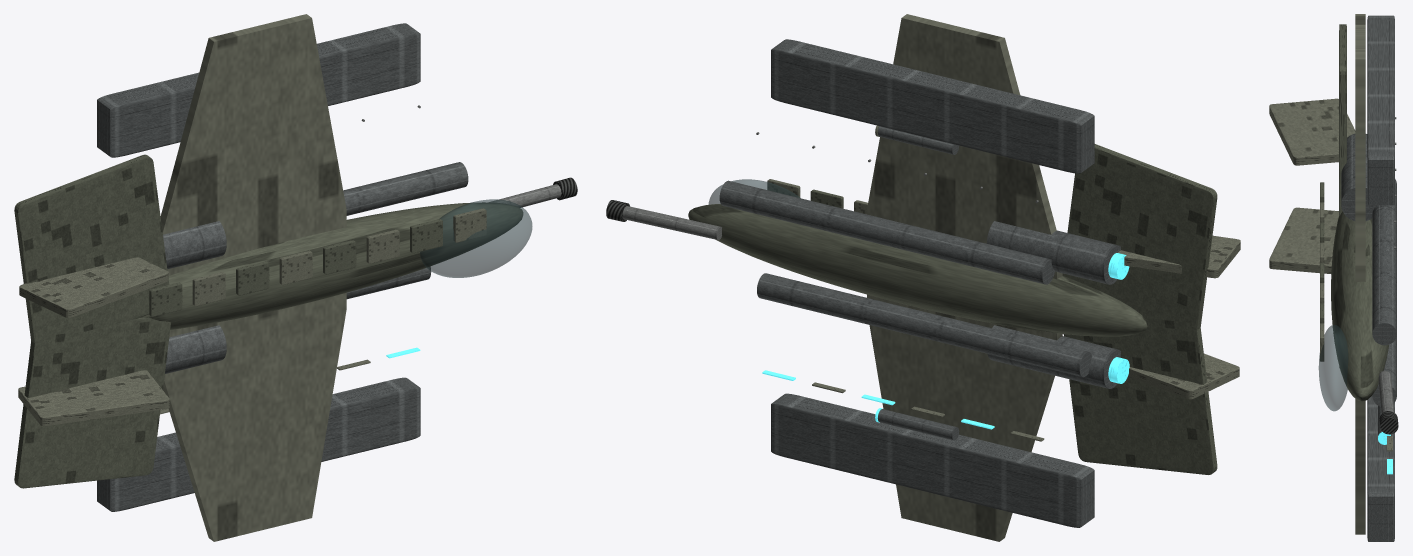
File: v-u30-vanguard-aerial-artillery-lod0.glb
3 renders of one model, left to right at view 1: azimuth 30°, elevation 25°; view 2: azimuth 150°, elevation 25°; view 3: azimuth 270°, elevation 25°, orthographic. The views are drawn at different scales.
Visible parts, largest first — view 1: combat_main_wing, combat_tailplane_-1, combat_tailplane_1, combat_fuselage, artillery_pod_1, artillery_pod_-1, combat_canopy, combat_fin_-1, combat_fin_1, aerial_launcher_5, combat_engine_1, combat_engine_0 (+11 smaller); view 2: combat_main_wing, combat_fuselage, artillery_pod_1, artillery_pod_-1, combat_tailplane_1, combat_tailplane_-1, aerial_launcher_1, combat_engine_1, aerial_launcher_0, aerial_launcher_5, aerial_launcher_4, aerial_launcher_2 (+7 smaller); view 3: combat_fuselage, artillery_pod_1, combat_main_wing, combat_fin_1, combat_fin_-1, artillery_pod_-1, combat_canopy, aerial_launcher_5, aerial_launcher_3, combat_engine_1, combat_tailplane_1, aerial_launcher_4 (+4 smaller).
Boxes of the visible parts, x1,y1,x2,y2 form: combat_main_wing: (160, 14, 346, 541); combat_tailplane_-1: (14, 317, 170, 488); combat_tailplane_1: (14, 154, 169, 343); combat_fuselage: (140, 202, 522, 329); artillery_pod_1: (97, 23, 420, 157); artillery_pod_-1: (97, 377, 420, 511); combat_canopy: (420, 199, 532, 277); combat_fin_-1: (18, 370, 169, 426); combat_fin_1: (19, 257, 168, 317); aerial_launcher_5: (343, 162, 468, 214); combat_engine_1: (163, 221, 226, 269); combat_engine_0: (165, 325, 226, 373); combat_main_wing: (867, 14, 1062, 541); combat_fuselage: (688, 204, 1147, 336); artillery_pod_1: (771, 39, 1094, 173); artillery_pod_-1: (771, 393, 1094, 527); combat_tailplane_1: (1062, 144, 1217, 330); combat_tailplane_-1: (1063, 318, 1217, 474); aerial_launcher_1: (868, 217, 1054, 284); combat_engine_1: (986, 221, 1120, 284); aerial_launcher_0: (906, 313, 1092, 377); aerial_launcher_5: (719, 180, 899, 247); aerial_launcher_4: (757, 273, 933, 337); aerial_launcher_2: (831, 291, 1013, 358); combat_fuselage: (1331, 211, 1388, 401); artillery_pod_1: (1367, 15, 1394, 205); combat_main_wing: (1355, 14, 1365, 534); combat_fin_1: (1269, 98, 1355, 165); combat_fin_-1: (1269, 207, 1338, 273); artillery_pod_-1: (1367, 395, 1394, 541); combat_canopy: (1318, 325, 1348, 411); aerial_launcher_5: (1372, 244, 1396, 345); aerial_launcher_3: (1372, 208, 1396, 298); combat_engine_1: (1341, 133, 1377, 220); combat_tailplane_1: (1339, 24, 1346, 216); aerial_launcher_4: (1372, 336, 1396, 406).
Size of what is drawn, in the model's own units: 15.44 by 12.7 by 3.13.
Materials: 7 (7 with a texture image).
